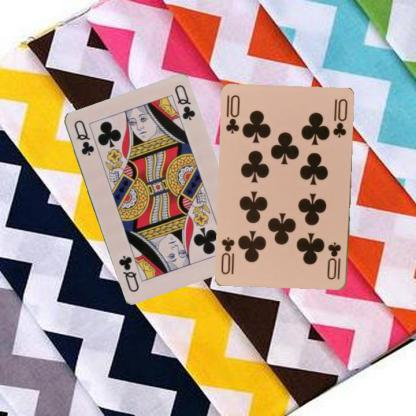10c: (223, 93, 242, 135), (325, 240, 342, 281)
Qc: (71, 117, 95, 157)
